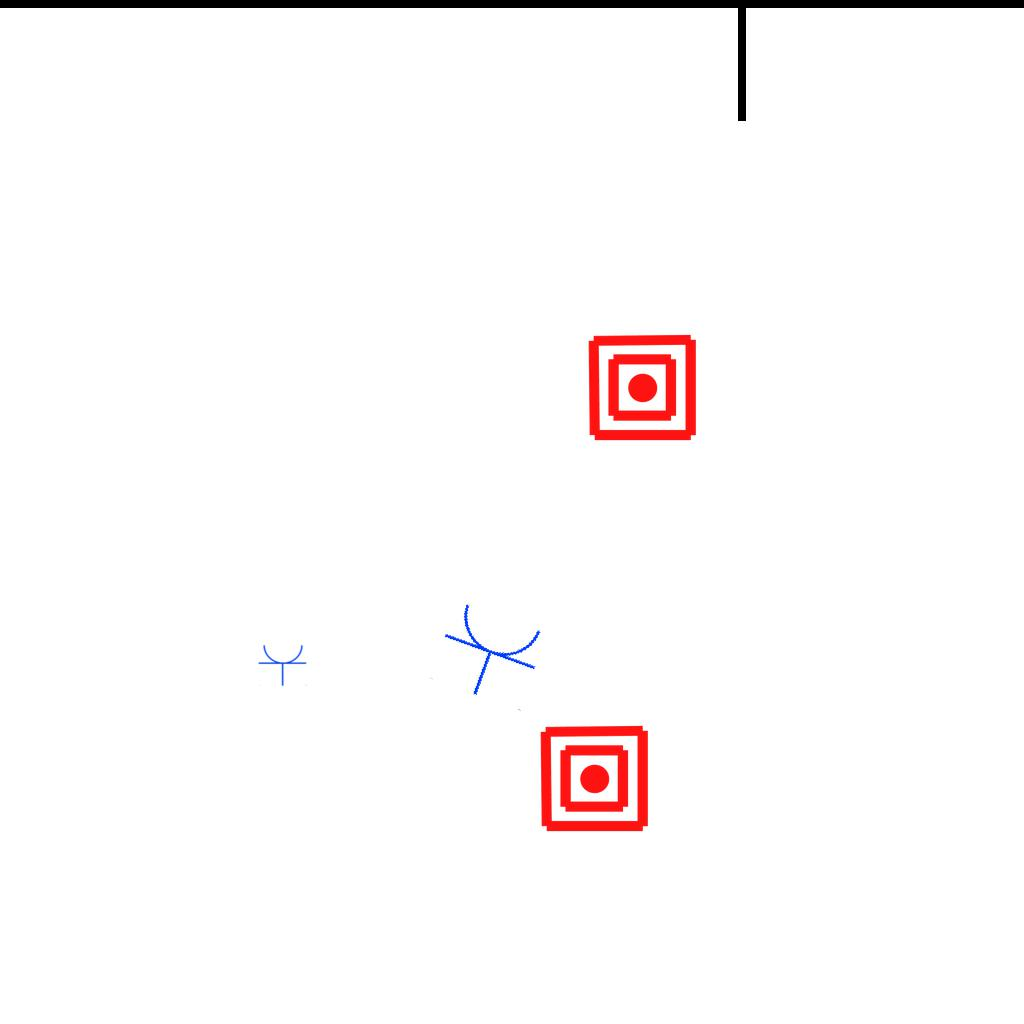NAM-Nichtautomatischer_Melder: (586, 331, 699, 444), (538, 722, 651, 835)
Schukosteckdose_einfach: (428, 596, 552, 713), (258, 643, 308, 686)
